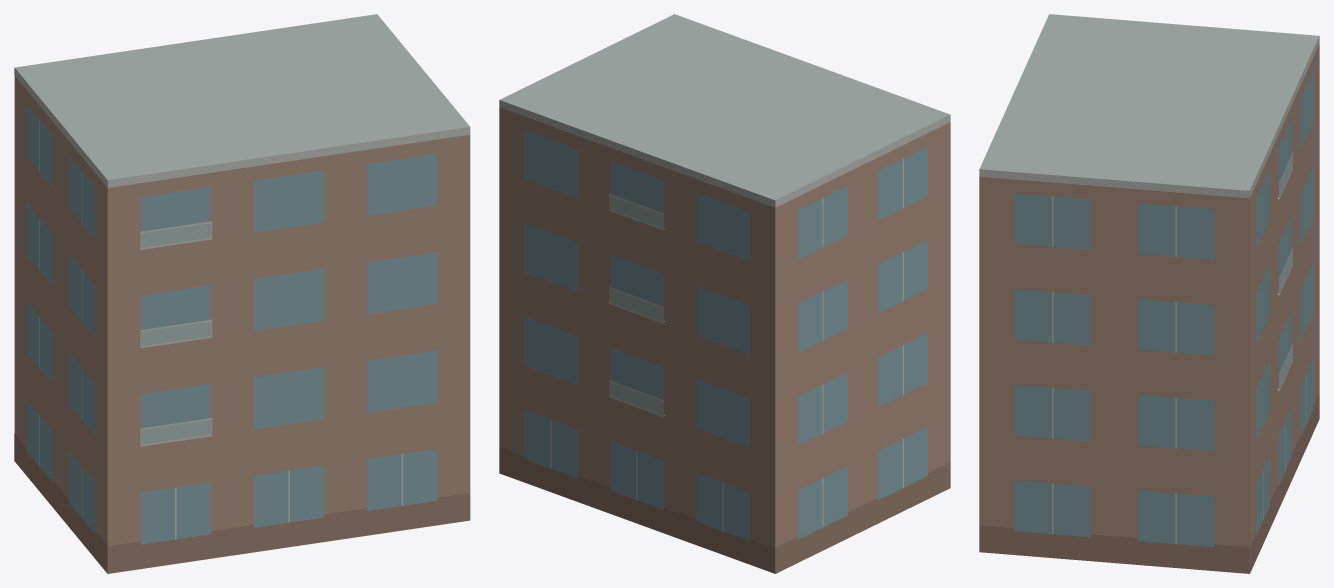
Rendered from survey-upis-32528679.glb.
3 views of the same model, side by side, from view 1: azimuth 30°, elevation 25°; view 2: azimuth 150°, elevation 25°; view 3: azimuth 270°, elevation 25° (orthographic). The views are drawn at different scales.
Visible parts, largest first — view 1: survey-upis-32528679.tmp; view 2: survey-upis-32528679.tmp; view 3: survey-upis-32528679.tmp.
Boxes of the visible parts, x1,y1,x2,y2 form: survey-upis-32528679.tmp: [14, 14, 470, 573]; survey-upis-32528679.tmp: [499, 14, 950, 573]; survey-upis-32528679.tmp: [979, 14, 1319, 573].
Size of the model in its own units: 12.4 by 12.5 by 10.08.
